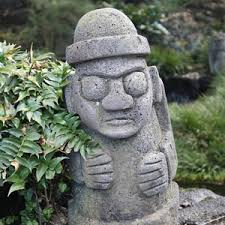Stone Statue: (57, 7, 184, 225)
